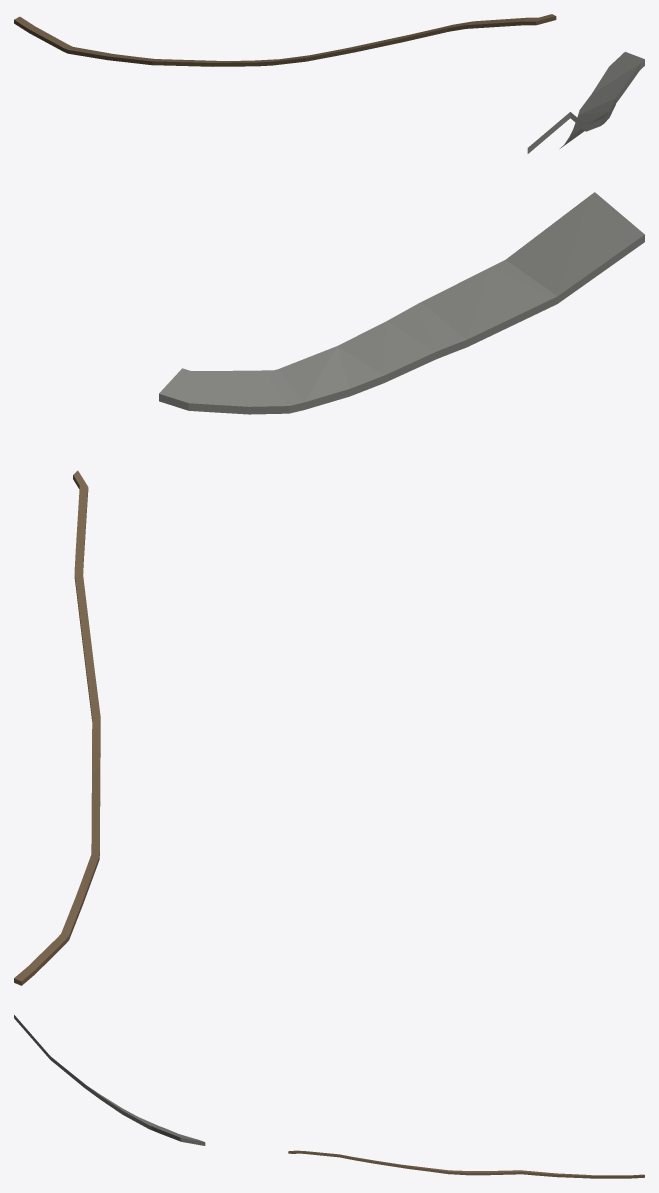
3 renders of one model, top to bottom at view 1: azimuth 30°, elevation 25°; view 2: azimuth 150°, elevation 25°; view 3: azimuth 270°, elevation 25°, orthographic. The views are drawn at different scales.
Size of the model in its own units: 49.33 by 52.75 by 175.
